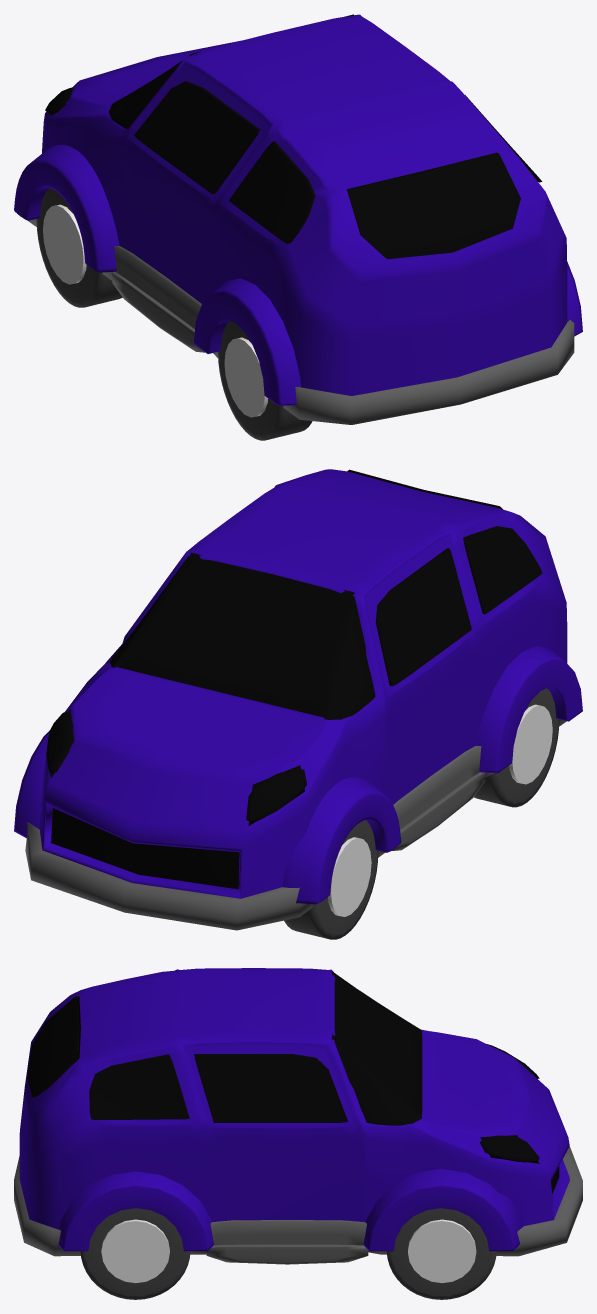
The model's file is Car.fbx.
The picture shows the model from 3 angles, top to bottom: view 1: azimuth 30°, elevation 25°; view 2: azimuth 150°, elevation 25°; view 3: azimuth 270°, elevation 25°; orthographic projection. The views are drawn at different scales.
Parts seen in each view (by area): view 1: polySurface14, polySurface23, polySurface20; view 2: polySurface14, polySurface23, polySurface20; view 3: polySurface14, polySurface20, polySurface23.
Boxes of the visible parts, box(x1,y1,x2,y2) form: polySurface14: box(14, 14, 582, 424); polySurface23: box(36, 188, 122, 307); polySurface20: box(218, 321, 312, 440); polySurface14: box(14, 469, 582, 930); polySurface23: box(284, 820, 378, 939); polySurface20: box(474, 688, 559, 807); polySurface14: box(14, 968, 582, 1264); polySurface20: box(80, 1208, 190, 1299); polySurface23: box(387, 1208, 496, 1299).
Size of the model in its own units: 1.14 by 1.03 by 2.2.
